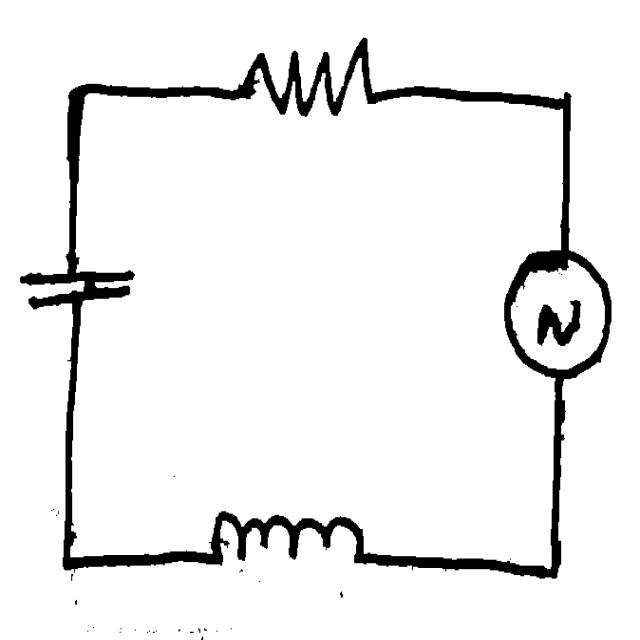ac: (497, 232, 620, 384)
capacitor: (14, 254, 144, 320)
inductor: (193, 486, 372, 586)
resistor: (224, 31, 384, 137)
